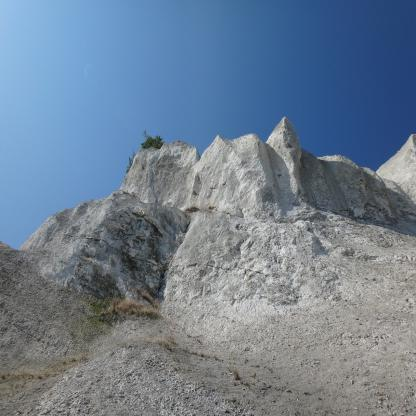Sedimentary_Chalk: (221, 235, 376, 396), (92, 200, 173, 301), (211, 158, 308, 196)
